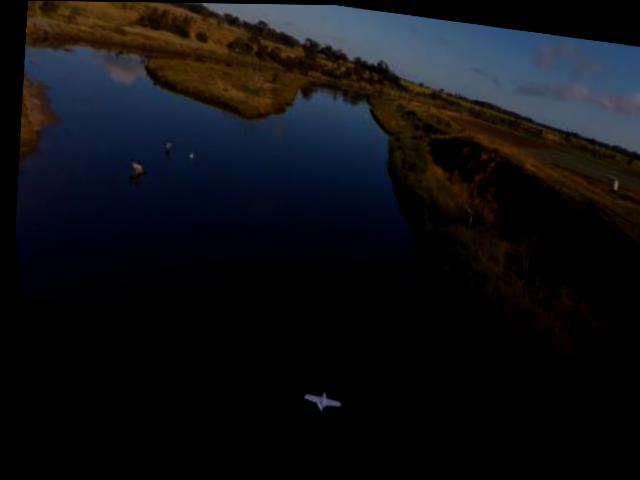uav: (294, 384, 340, 418)
